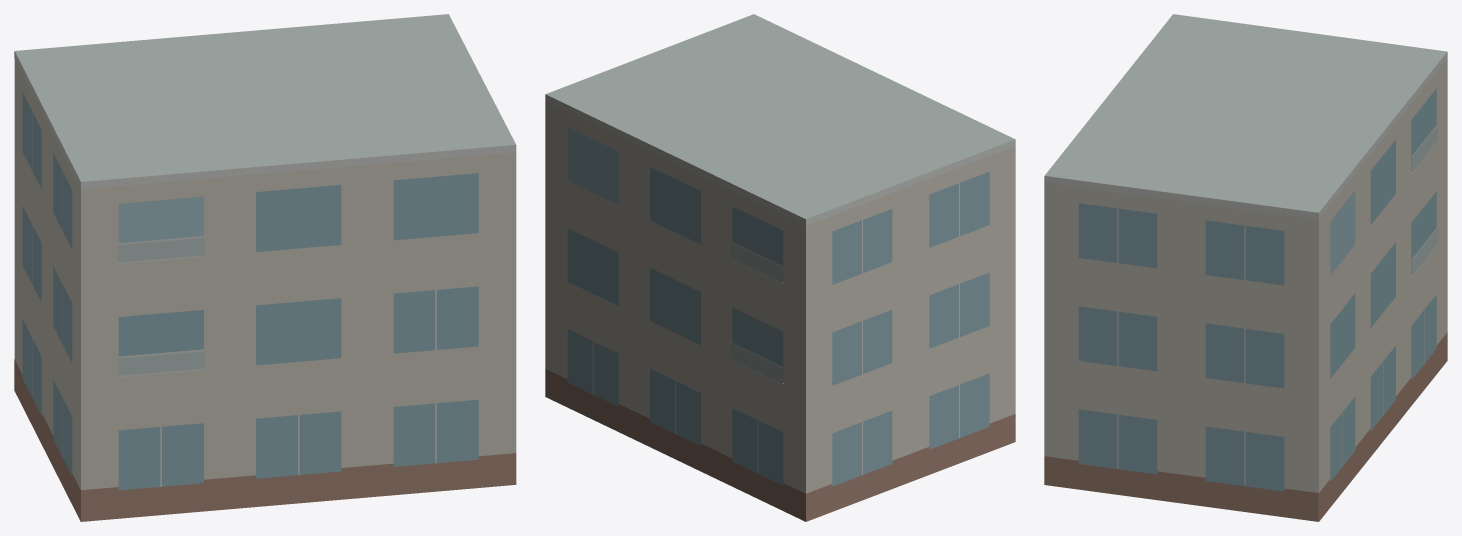
Rendered from survey-upis-32696488.glb.
3 renders of one model, left to right at view 1: azimuth 30°, elevation 25°; view 2: azimuth 150°, elevation 25°; view 3: azimuth 270°, elevation 25°, orthographic. The views are drawn at different scales.
Visible parts, largest first — view 1: survey-upis-32696488.tmp; view 2: survey-upis-32696488.tmp; view 3: survey-upis-32696488.tmp.
Part boxes in pixels (box(x1,y1,x2,y2)): survey-upis-32696488.tmp: box(14, 14, 516, 521); survey-upis-32696488.tmp: box(545, 14, 1015, 521); survey-upis-32696488.tmp: box(1044, 14, 1447, 521).
Size of the model in its own units: 15.46 by 11.2 by 13.25.
